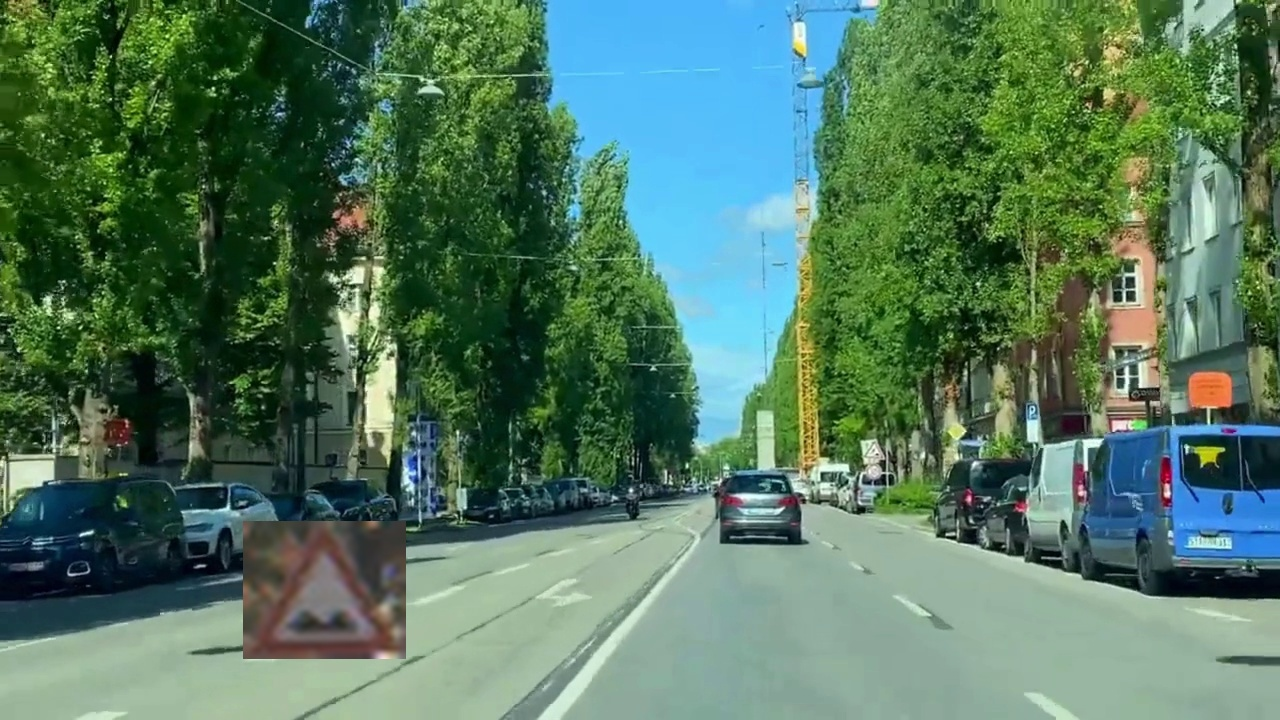Bumpy road: (243, 521, 406, 659)
